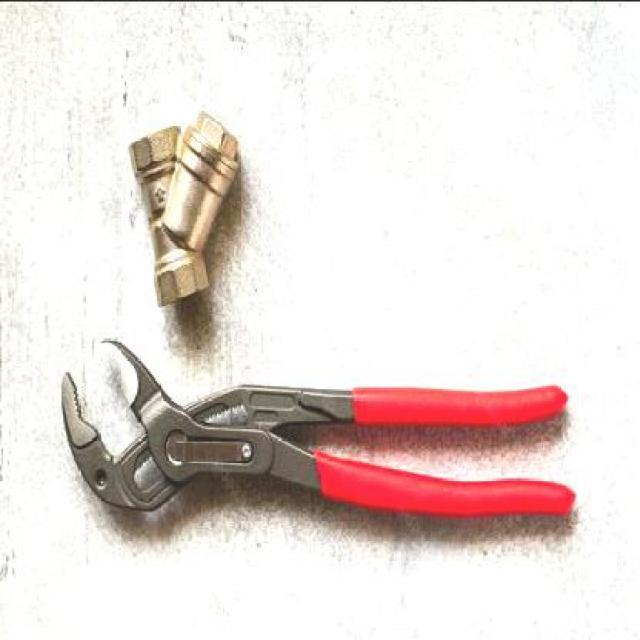pliers: (53, 332, 575, 514)
